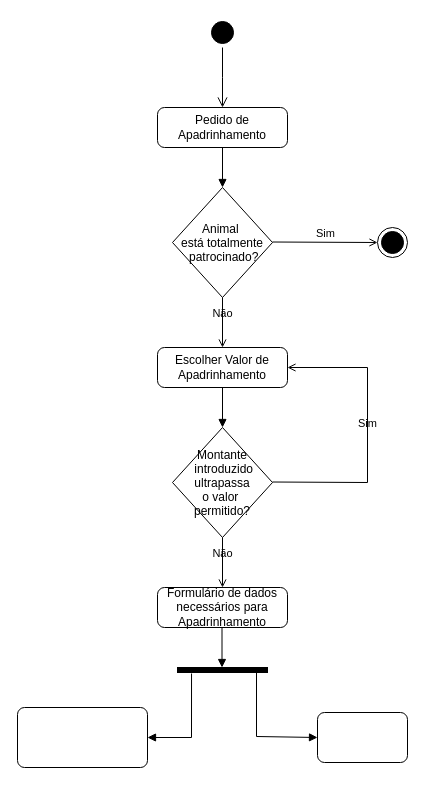
Some shapes in this 425 by 785 pixel diagram are drawn without their labels. Here are the shapes that lost their labels. From the top down, the centre of each, then its label:
At point 82,737: "Animal é adicionado aos animais apadrinhados e favoritos do utiizador".
At point 362,737: "Enviado recibo(mockUp)".
